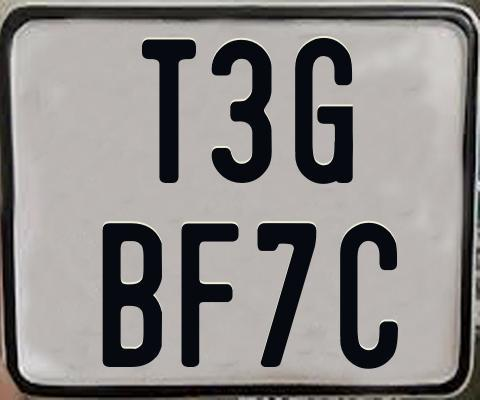3: (212, 37, 276, 183)
7: (254, 222, 314, 371)
B: (99, 221, 164, 370)
C: (340, 221, 400, 367)
F: (178, 222, 240, 370)
G: (294, 37, 355, 189)
T: (140, 36, 196, 180)
